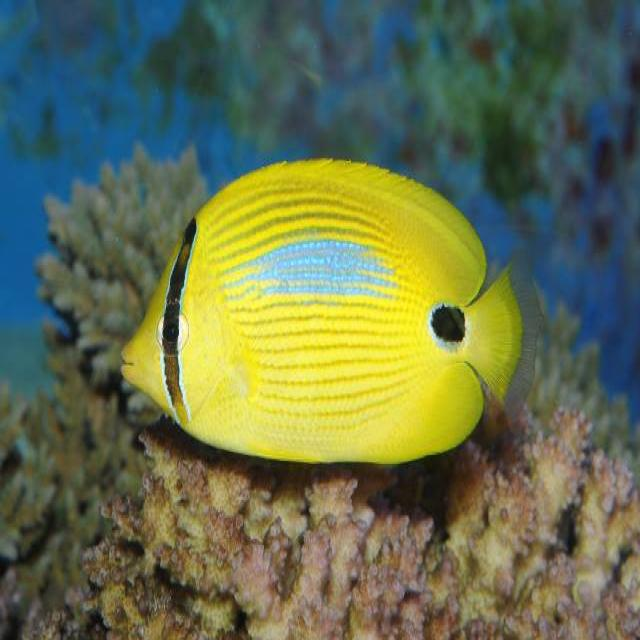ButterflyFish: (125, 159, 531, 466)
